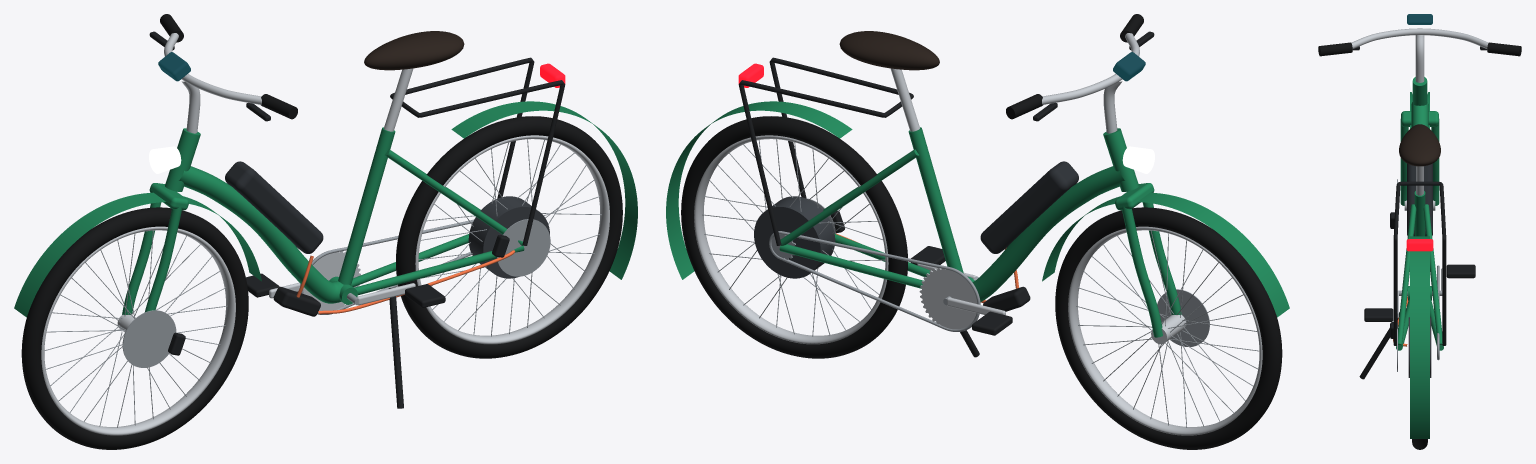
3 views of the same model, side by side, from view 1: azimuth 30°, elevation 25°; view 2: azimuth 150°, elevation 25°; view 3: azimuth 270°, elevation 25° (orthographic). The views are drawn at different scales.
Parts seen in each view (by area): view 1: wheels_0000, wheels_0001, wheels_0002, body_0004, wheels_0003, body_0011, body_0012, battery_0015, body_0006, wheels_0007, cabin_0016, wheels_0008 (+19 smaller); view 2: wheels_0000, wheels_0001, wheels_0002, wheels_0003, body_0004, drive_0022, body_0011, wheels_0007, body_0012, battery_0015, body_0006, cabin_0016 (+15 smaller); view 3: body_0012, body_0006, cabin_0016, cabin_0009, battery_0015, body_0017, body_0018, cabin_0027, body_0021, drive_0036, drive_0035, body_0034 (+10 smaller).
Boxes of the visible parts, left/top/right/bottom form: wheels_0000: left=21, top=207, right=248, bottom=449; wheels_0001: left=396, top=116, right=622, bottom=358; wheels_0002: left=41, top=226, right=235, bottom=435; body_0004: left=179, top=166, right=343, bottom=303; wheels_0003: left=415, top=135, right=609, bottom=344; body_0011: left=14, top=192, right=261, bottom=317; body_0012: left=451, top=101, right=637, bottom=279; battery_0015: left=225, top=161, right=323, bottom=253; body_0006: left=390, top=57, right=565, bottom=245; wheels_0007: left=44, top=230, right=227, bottom=427; cabin_0016: left=364, top=31, right=464, bottom=70; wheels_0008: left=418, top=139, right=601, bottom=336; wheels_0000: left=1055, top=207, right=1282, bottom=449; wheels_0001: left=681, top=116, right=907, bottom=358; wheels_0002: left=1068, top=226, right=1262, bottom=435; wheels_0003: left=694, top=135, right=888, bottom=344; body_0004: left=972, top=166, right=1124, bottom=301; drive_0022: left=754, top=196, right=835, bottom=278; body_0011: left=1042, top=192, right=1289, bottom=317; wheels_0007: left=1076, top=231, right=1258, bottom=427; body_0012: left=666, top=101, right=852, bottom=279; battery_0015: left=980, top=161, right=1078, bottom=253; body_0006: left=738, top=57, right=913, bottom=245; cabin_0016: left=839, top=31, right=939, bottom=70; body_0012: left=1410, top=236, right=1429, bottom=438; body_0006: left=1393, top=181, right=1446, bottom=345; cabin_0016: left=1399, top=124, right=1440, bottom=166; cabin_0009: left=1351, top=28, right=1488, bottom=48; battery_0015: left=1407, top=163, right=1432, bottom=236; body_0017: left=1398, top=204, right=1416, bottom=345; body_0018: left=1423, top=204, right=1442, bottom=344; cabin_0027: left=1415, top=35, right=1424, bottom=82; body_0021: left=1414, top=191, right=1425, bottom=236; drive_0036: left=1446, top=264, right=1475, bottom=278; drive_0035: left=1364, top=308, right=1393, bottom=321; body_0034: left=1412, top=77, right=1427, bottom=105.
Size of the model in its own units: 1.83 by 1.08 by 0.6682.
